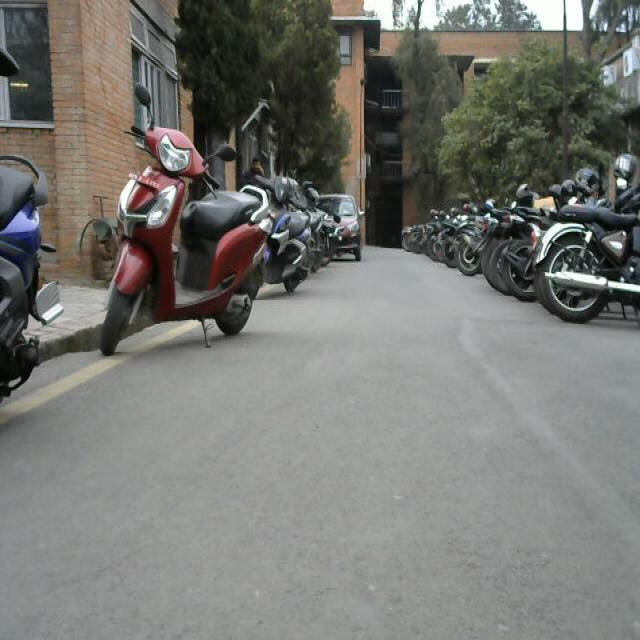Bike: (99, 91, 248, 382), (390, 162, 640, 314), (0, 50, 70, 415), (250, 157, 338, 304)
Car: (313, 187, 368, 280)
Pole: (358, 70, 371, 257)
Road: (33, 257, 640, 640)
trees: (396, 4, 603, 191), (180, 1, 354, 145)
